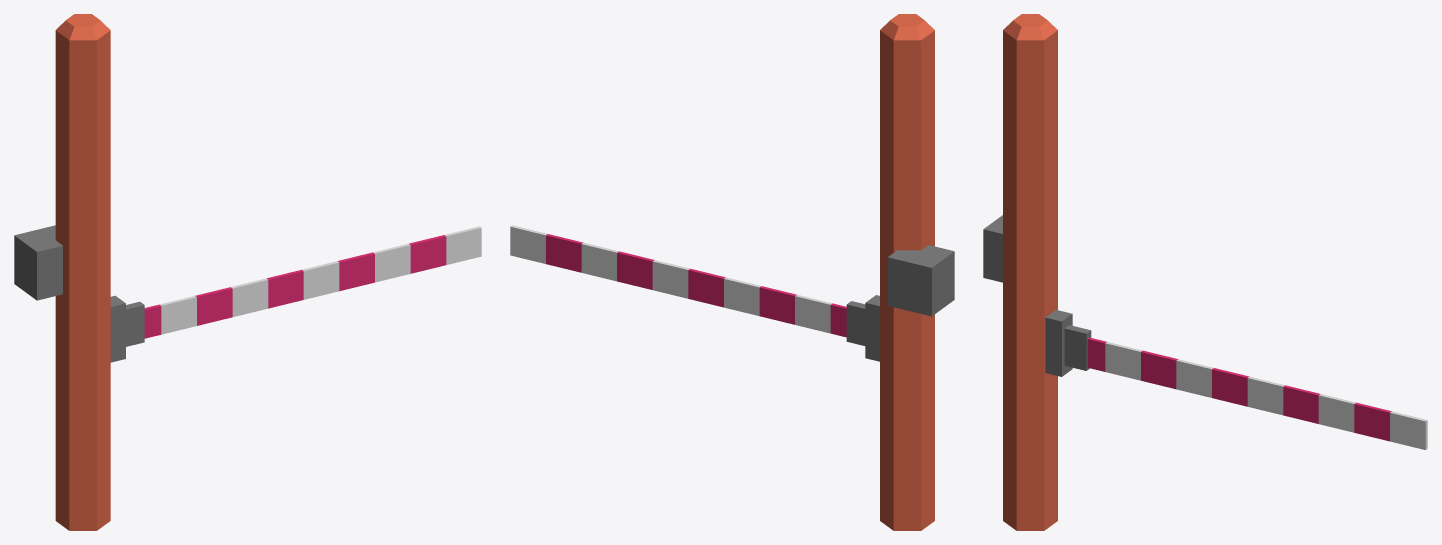
The model's file is PoleModel.dae.
3 views of the same model, side by side, from view 1: azimuth 30°, elevation 25°; view 2: azimuth 150°, elevation 25°; view 3: azimuth 330°, elevation 25° (orthographic).
Visible parts, largest first — view 1: pole, guard, box, box.002, box.001; view 2: pole, guard, box, box.002, box.001; view 3: pole, guard, box.002, box, box.001.
Part boxes in pixels (x1,y1,x2,y2): pole: [55, 14, 110, 530]; guard: [144, 226, 481, 338]; box: [14, 225, 62, 300]; box.002: [110, 295, 125, 362]; box.001: [126, 301, 144, 346]; pole: [880, 14, 934, 530]; guard: [510, 225, 846, 337]; box: [887, 245, 954, 316]; box.002: [865, 295, 879, 361]; box.001: [846, 301, 865, 345]; pole: [1003, 14, 1057, 530]; guard: [1087, 337, 1427, 449]; box.002: [1045, 310, 1072, 376]; box: [983, 215, 1002, 282]; box.001: [1064, 325, 1091, 370].
Bounding box in the file's own units: 4.98 × 0.7013 × 5.37.
